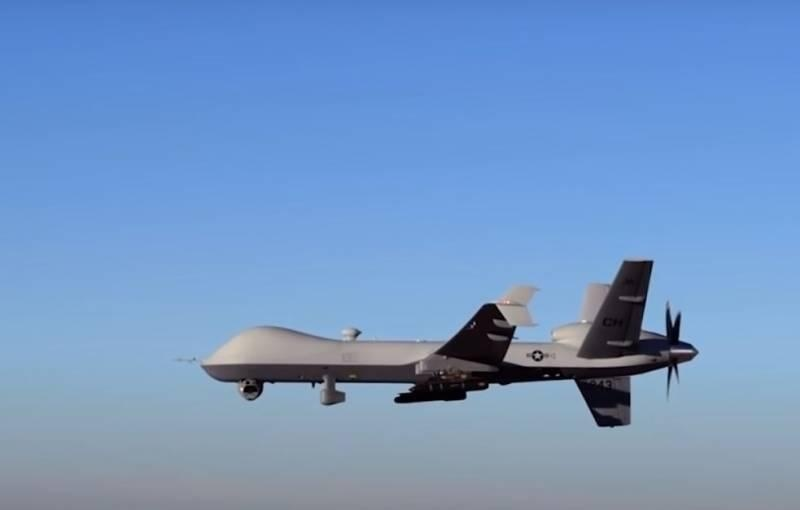aircraft: (184, 258, 699, 430)
